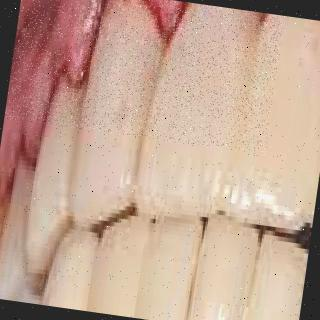Gum Swelling: (19, 0, 93, 152), (140, 0, 188, 43)
